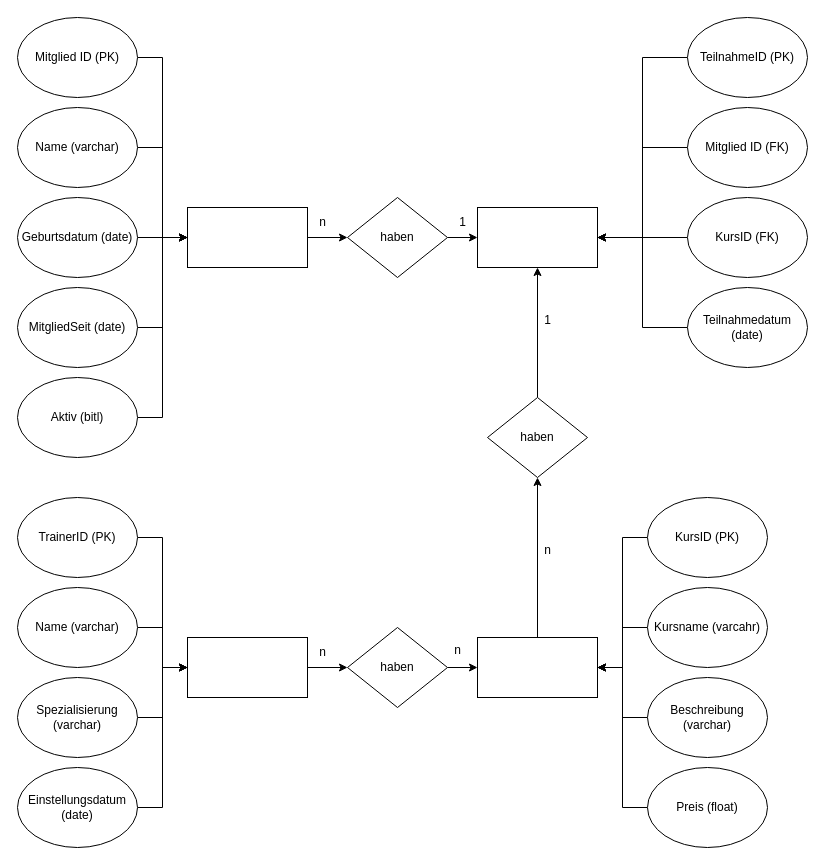
Image size: 825x865. Some labels were removed from this diagram. Here are the shapes that lost their labels. From the top down, the centre of each, then its label:
point 247,237: Mitglieder
point 537,237: Teilnahmen
point 247,667: Trainer
point 537,667: Kurse
